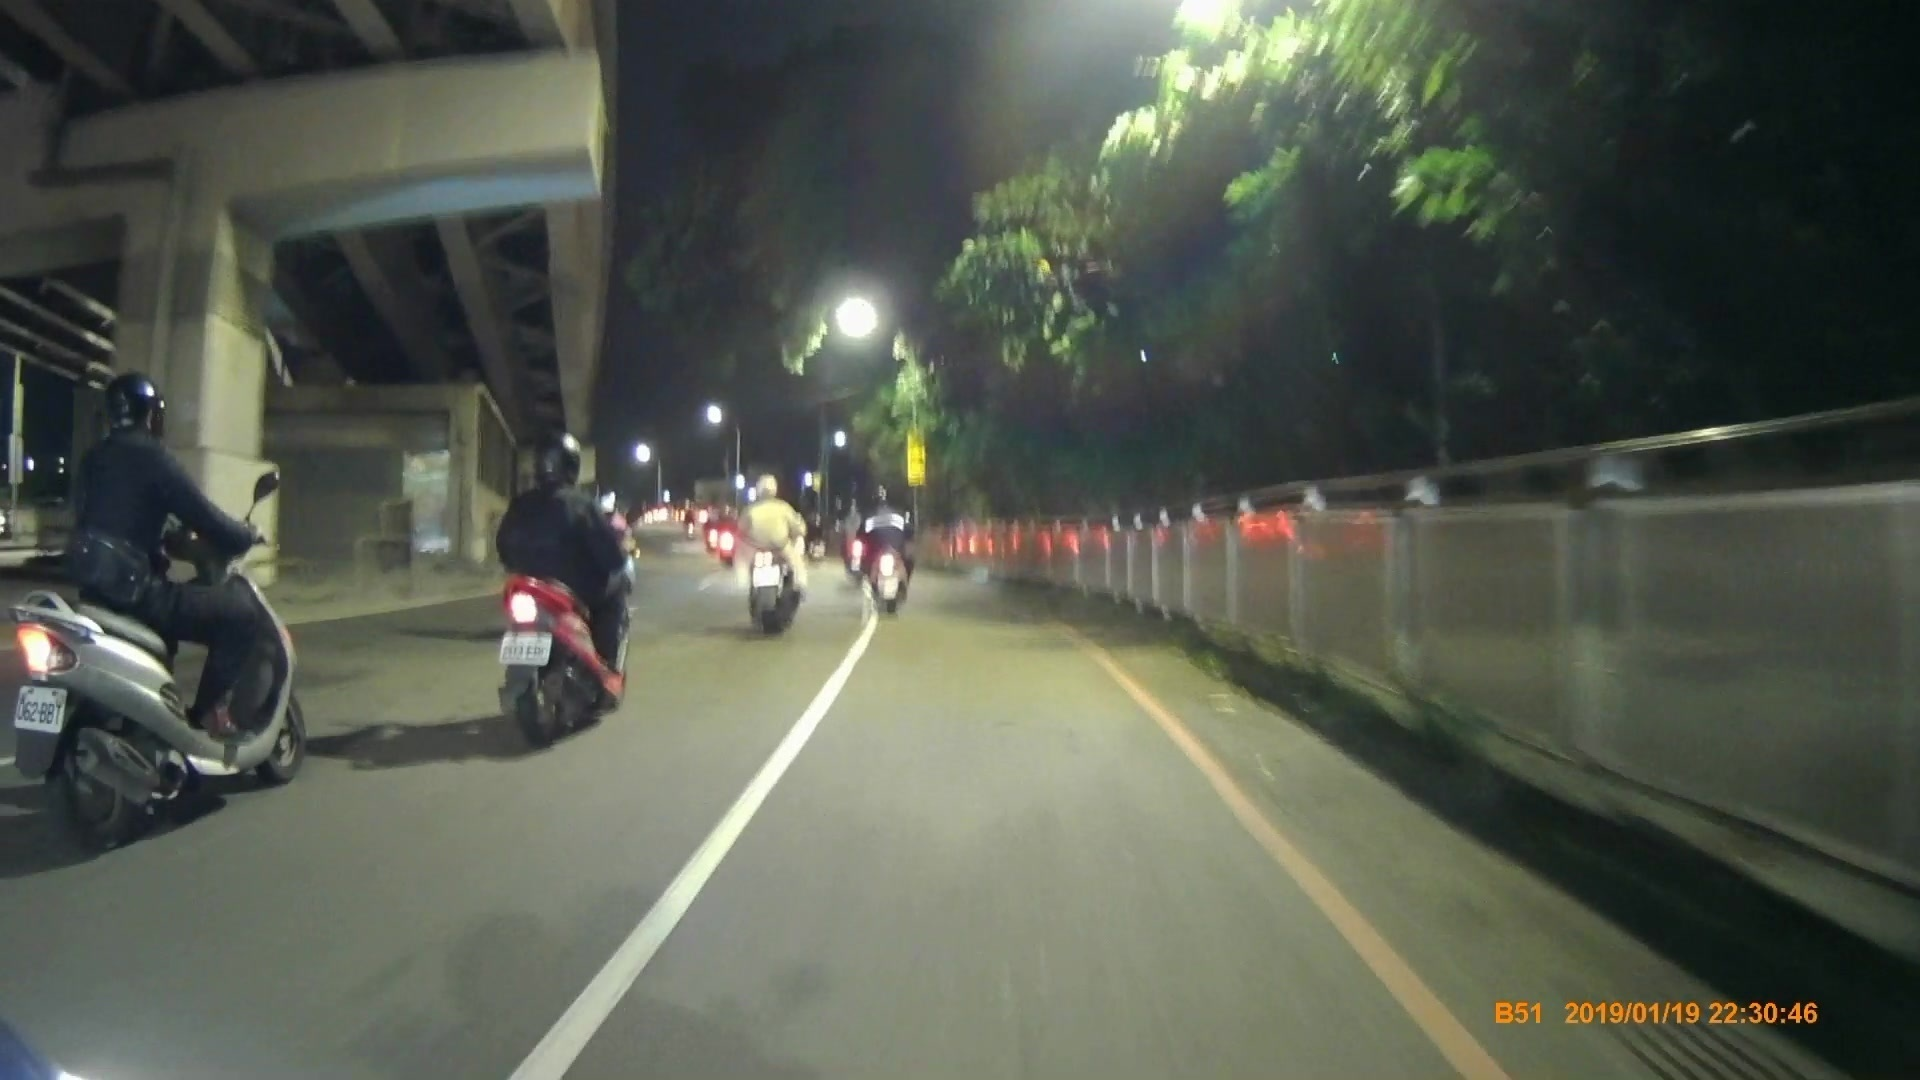License_plate: (13, 682, 68, 733), (496, 630, 552, 666), (749, 566, 783, 589), (874, 576, 903, 596)
